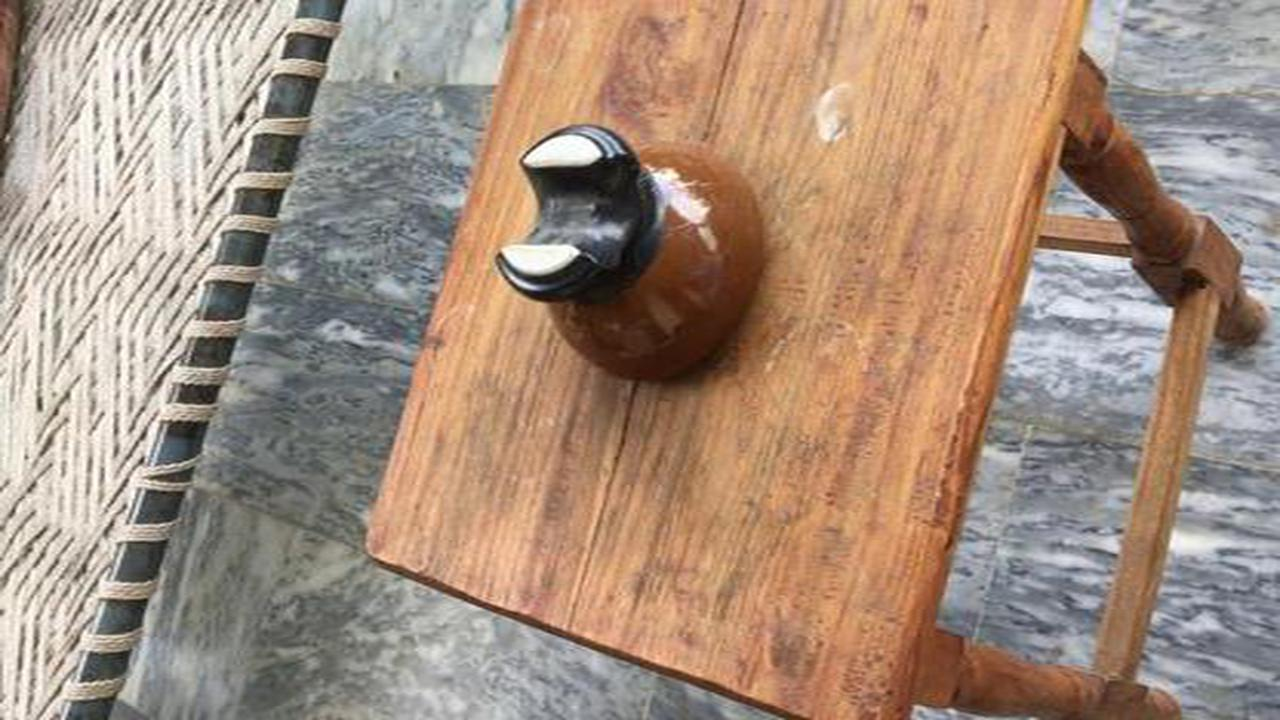insulator_pin: (487, 111, 785, 397)
